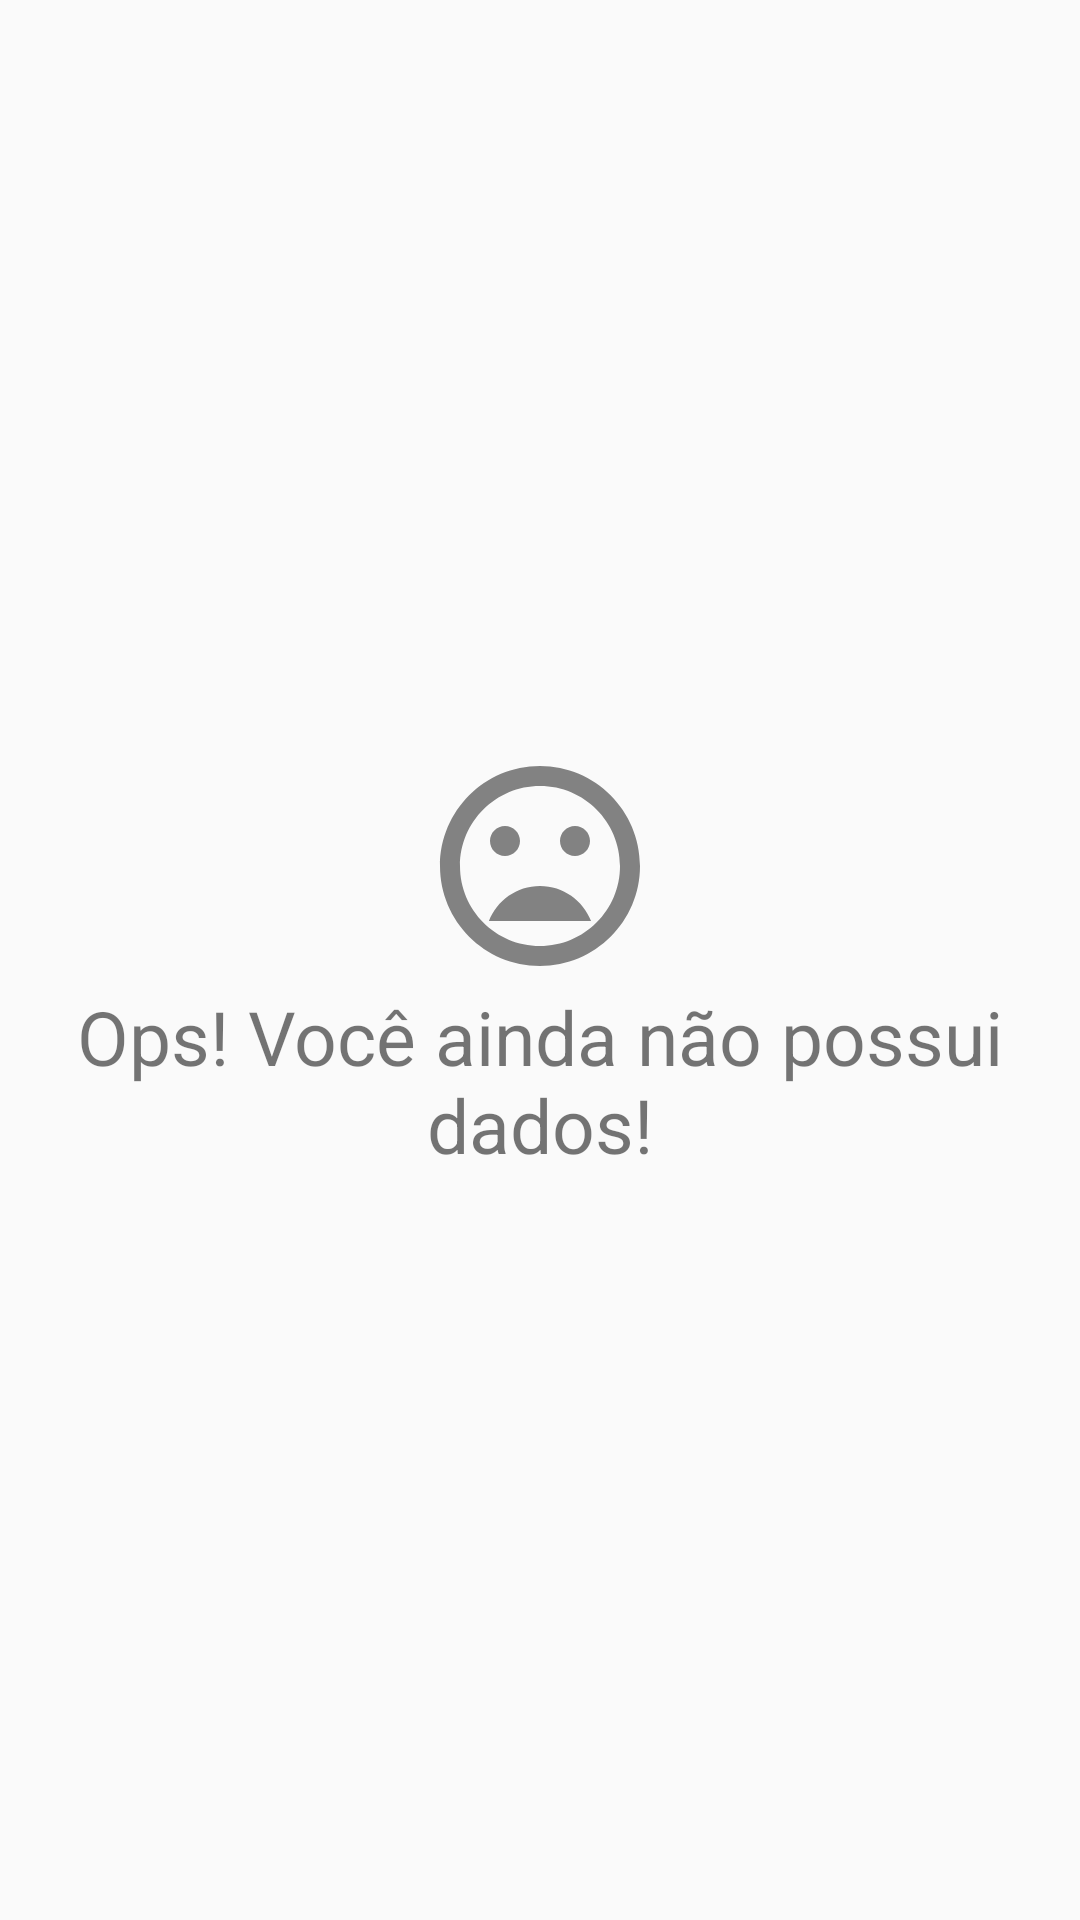

Named icons in this screenshot (1080px×1920px) and their bounding boxes, (left=x1, top=y1, right=x2, bottom=y2):
mood bad: (left=440, top=766, right=640, bottom=966)
